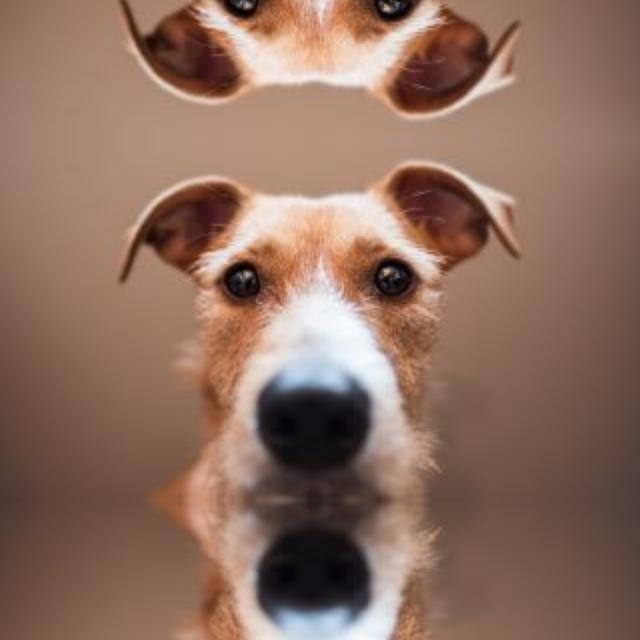dog: (108, 156, 526, 500), (108, 500, 525, 640), (108, 0, 525, 124)
